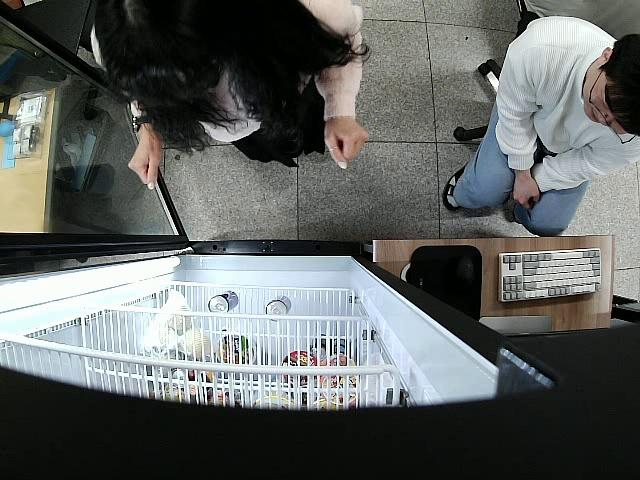00_hand: (323, 118, 370, 173), (124, 135, 163, 193)
